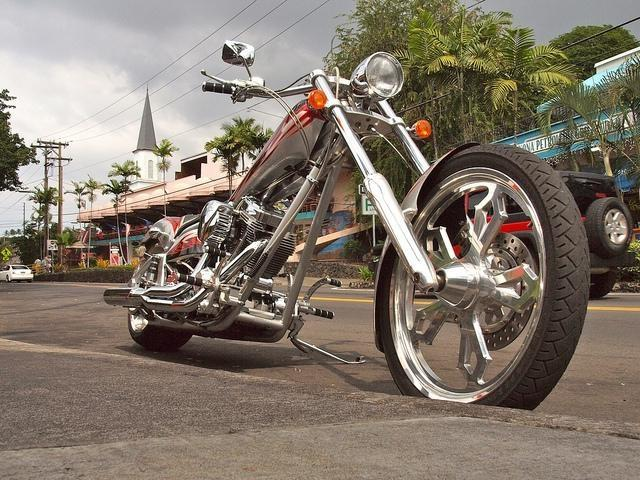car: (556, 168, 634, 296), (1, 266, 34, 284)
motorcycle: (92, 43, 591, 408)
